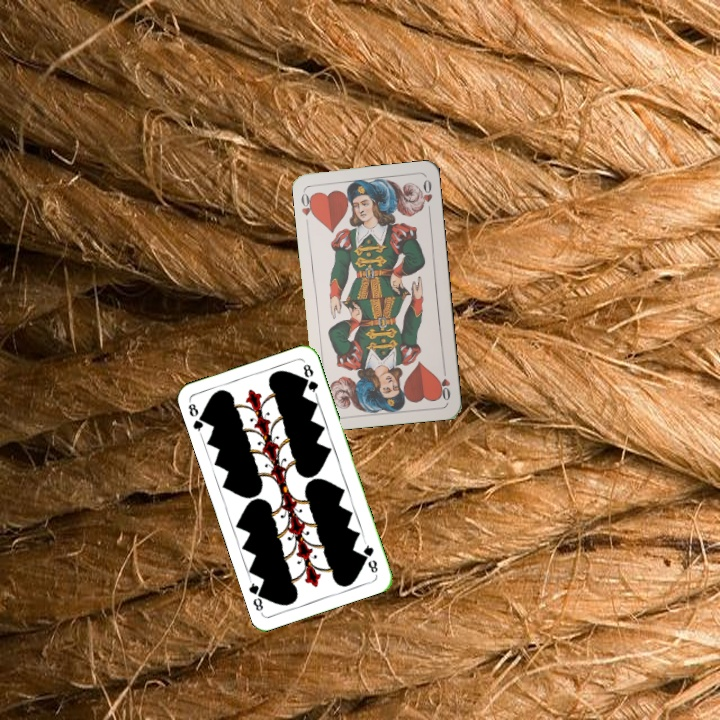G8: (184, 398, 209, 437), (359, 538, 380, 576)
HO: (435, 363, 453, 403), (297, 187, 318, 220)
